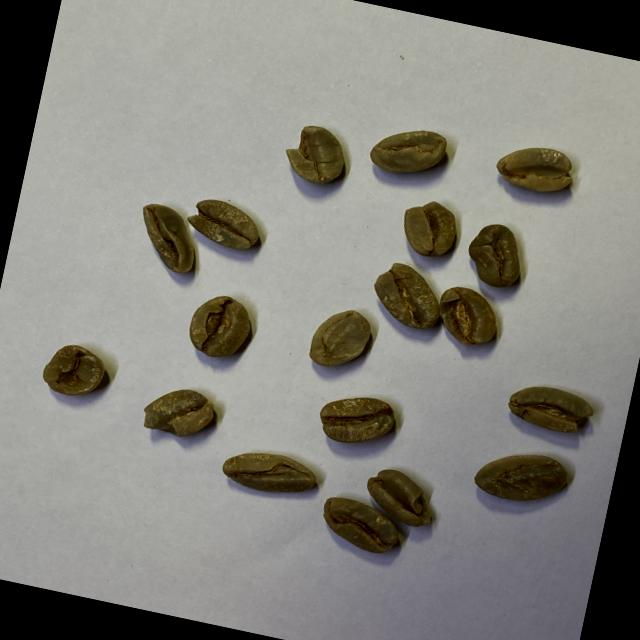bad: (468, 441, 572, 513), (366, 258, 450, 334), (218, 442, 320, 504), (313, 386, 402, 455), (182, 288, 258, 366), (315, 493, 405, 558), (504, 377, 598, 439), (130, 199, 204, 277), (359, 463, 442, 531), (365, 118, 450, 184), (303, 300, 376, 376), (491, 137, 579, 200), (138, 379, 220, 445), (278, 118, 352, 190), (181, 192, 265, 254), (460, 218, 530, 292), (432, 282, 504, 352), (37, 338, 111, 404), (395, 194, 463, 263)
